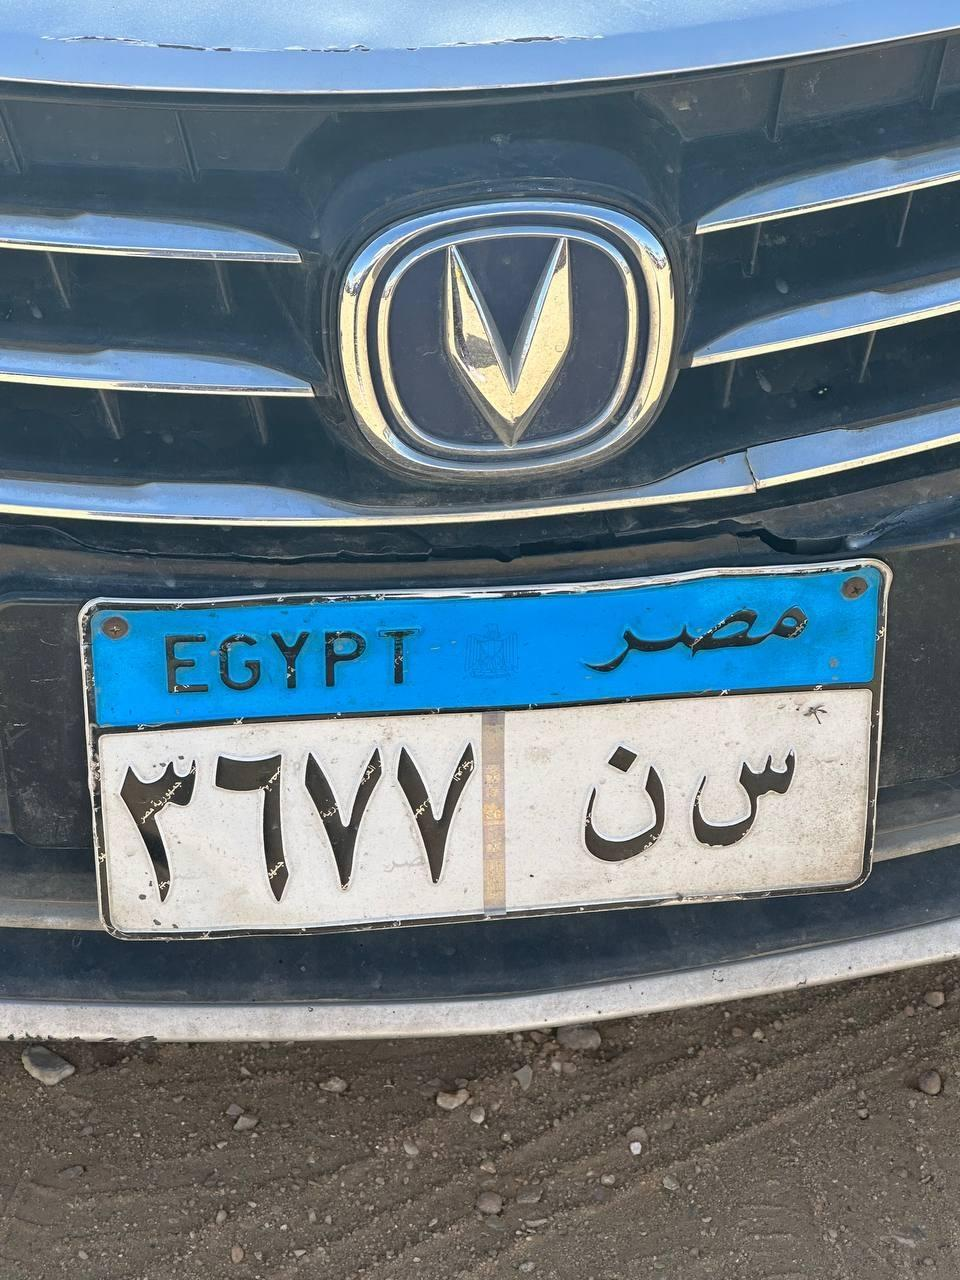3: (96, 748, 218, 908)
6: (203, 742, 305, 900)
7: (386, 721, 480, 900), (299, 722, 390, 904)
License Plate: (75, 553, 894, 945)
Noon: (575, 735, 680, 875)
Seen: (691, 742, 796, 855)
